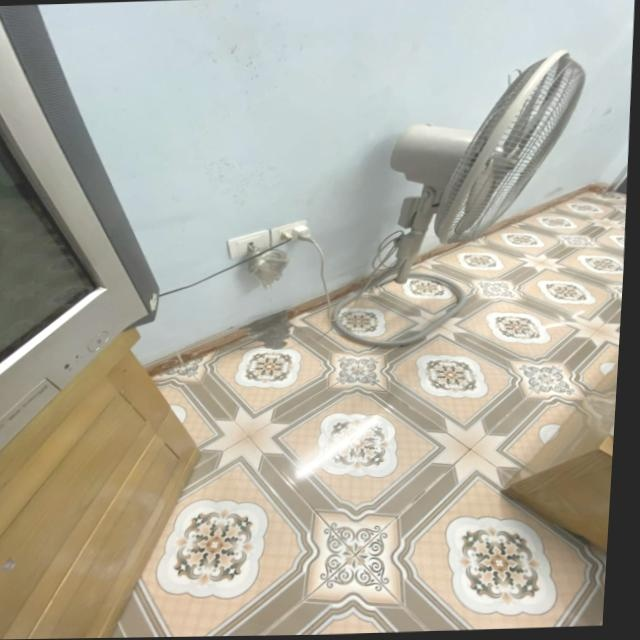outlet: (225, 228, 270, 259), (269, 219, 310, 248)
